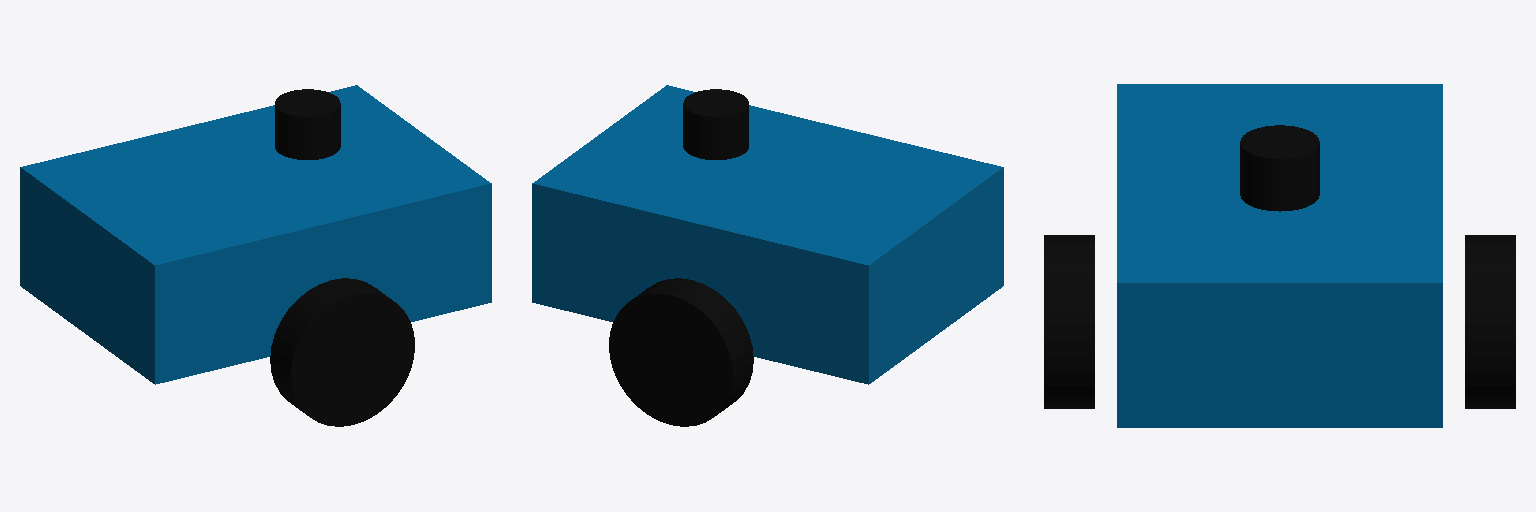
The robot description file, URDF, robot "campus_robot":
<?xml version="1.0"?>
<robot name="campus_robot">
  <material name="blue"><color rgba="0.05 0.45 0.65 1"/></material>
  <material name="black"><color rgba="0.08 0.08 0.08 1"/></material>
  <link name="base_link"><visual><geometry><box size="0.65 0.45 0.22"/></geometry><material name="blue"/></visual></link>
  <link name="laser"><visual><geometry><cylinder radius="0.055" length="0.08"/></geometry><material name="black"/></visual></link>
  <joint name="laser_fixed" type="fixed"><parent link="base_link"/><child link="laser"/><origin xyz="0.1 0 0.18"/></joint>
  <link name="left_wheel"><visual><origin rpy="1.57079632679 0 0"/><geometry><cylinder radius="0.12" length="0.07"/></geometry><material name="black"/></visual></link>
  <joint name="left_display" type="fixed"><parent link="base_link"/><child link="left_wheel"/><origin xyz="0 0.29 -0.10"/></joint>
  <link name="right_wheel"><visual><origin rpy="1.57079632679 0 0"/><geometry><cylinder radius="0.12" length="0.07"/></geometry><material name="black"/></visual></link>
  <joint name="right_display" type="fixed"><parent link="base_link"/><child link="right_wheel"/><origin xyz="0 -0.29 -0.10"/></joint>
</robot>

--- Facts derived from the render (not from the file) ---
The picture shows the robot from 3 angles, left to right: view 1: azimuth 30°, elevation 25°; view 2: azimuth 150°, elevation 25°; view 3: azimuth 270°, elevation 25°; orthographic projection.
Model campus_robot with 4 links and 3 joints (3 fixed), rooted at base_link, posed all joints at 0.
Links seen in each view (by area): view 1: base_link, right_wheel, laser; view 2: base_link, left_wheel, laser; view 3: base_link, left_wheel, right_wheel, laser.
Boxes of the visible links, x1=… form: base_link: x1=20, y1=85, x2=491, y2=384; right_wheel: x1=270, y1=278, x2=414, y2=426; laser: x1=275, y1=89, x2=340, y2=159; base_link: x1=532, y1=85, x2=1003, y2=384; left_wheel: x1=609, y1=278, x2=753, y2=426; laser: x1=683, y1=89, x2=748, y2=159; base_link: x1=1117, y1=84, x2=1442, y2=427; left_wheel: x1=1465, y1=235, x2=1515, y2=408; right_wheel: x1=1044, y1=235, x2=1094, y2=408; laser: x1=1240, y1=125, x2=1319, y2=211.
Bounding box of the posed robot: 0.65 × 0.65 × 0.44 m (x, y, z).
Geometry: primitives only (box / cylinder / sphere), no mesh files.
